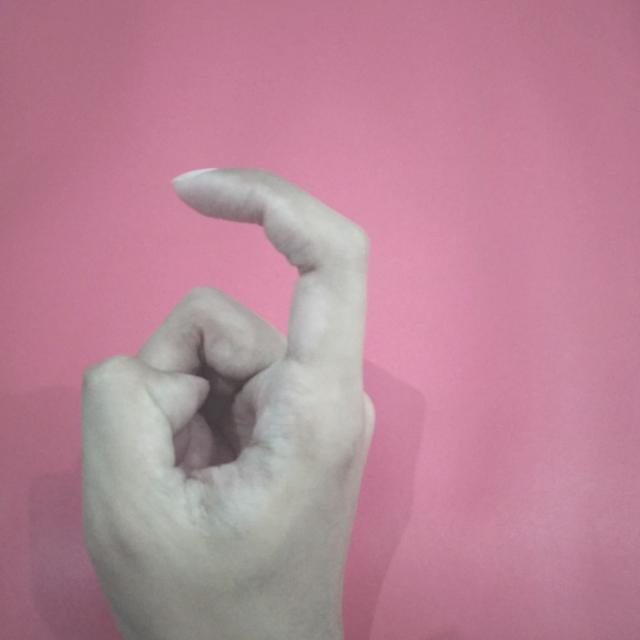X: (65, 160, 383, 640)
